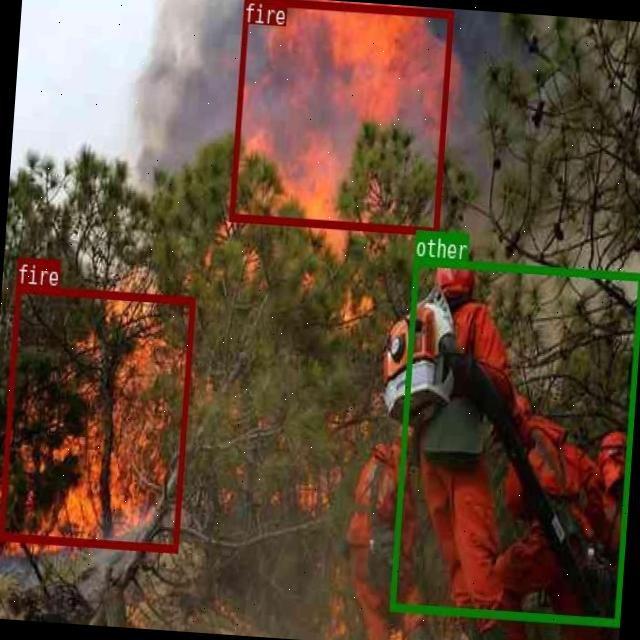fire: (229, 0, 452, 234), (0, 283, 194, 551)
